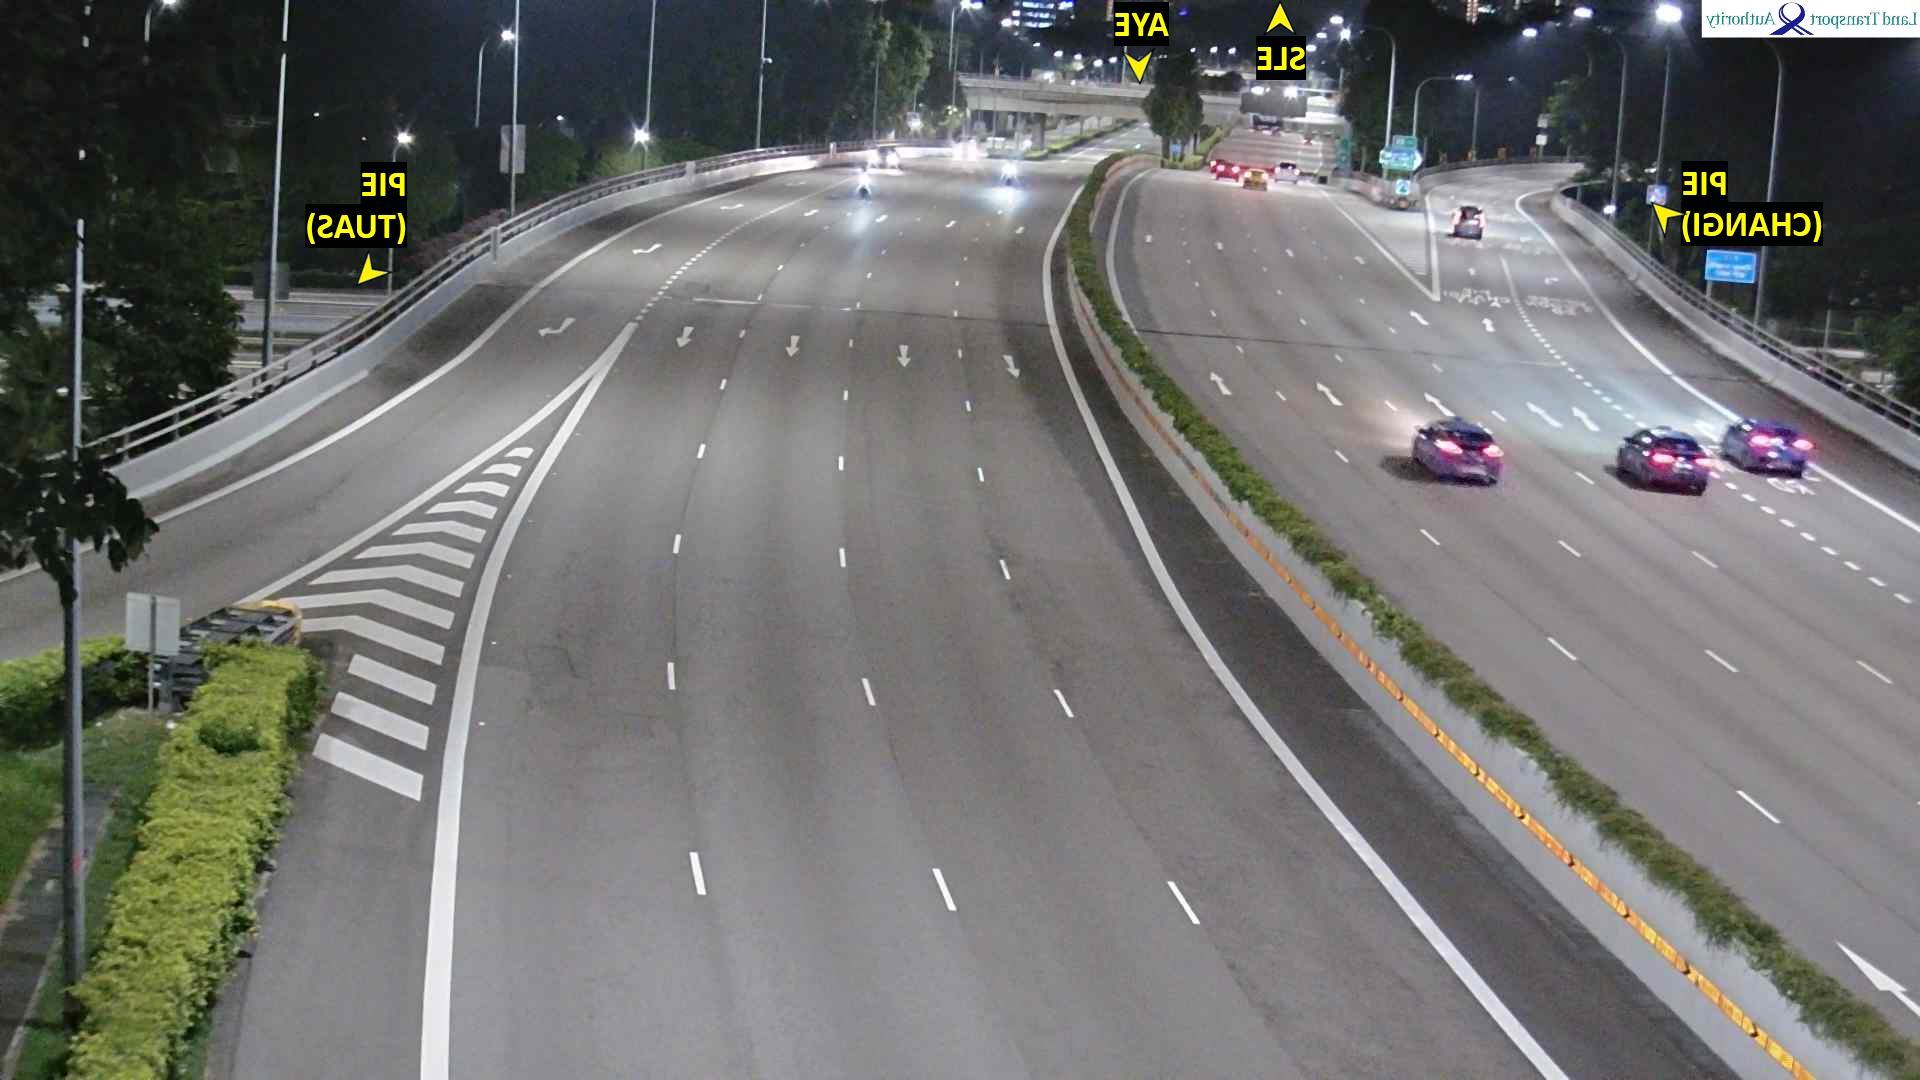cars: (1617, 424, 1716, 495), (1413, 416, 1505, 485), (1723, 416, 1816, 477), (1451, 203, 1486, 238), (866, 143, 901, 171), (1211, 157, 1241, 178), (1274, 160, 1301, 183), (1243, 167, 1270, 189), (1000, 159, 1021, 186), (1297, 133, 1317, 147)
motorcycle: (852, 163, 872, 200)
